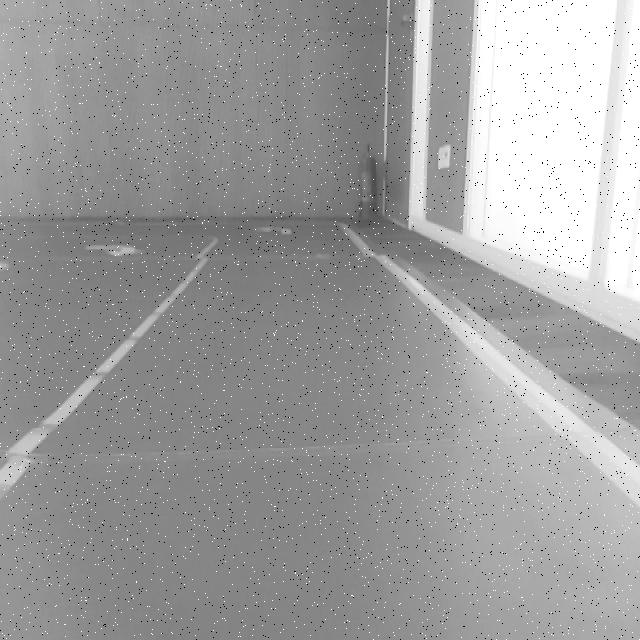left_lane: (0, 237, 218, 498)
right_lane: (345, 222, 640, 505)
